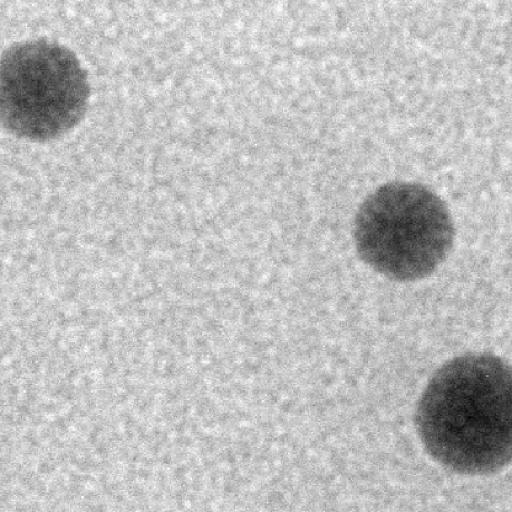Nanoparticles: (412, 351, 512, 479), (349, 174, 456, 286), (1, 36, 98, 146)
